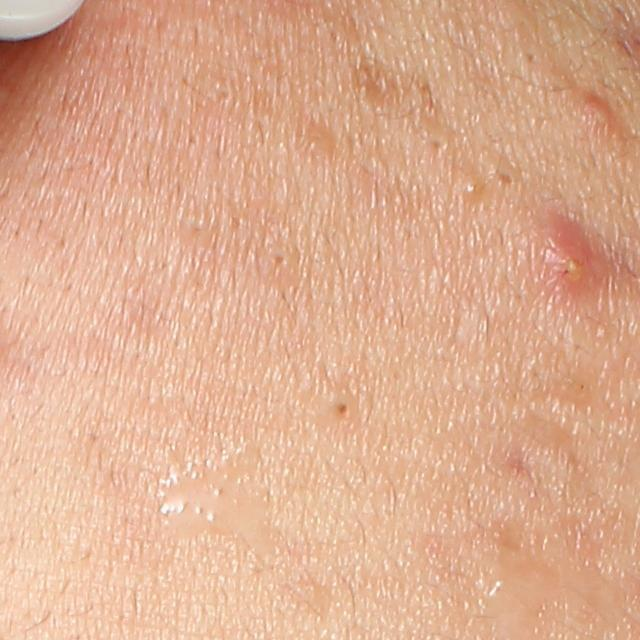comedo: (488, 159, 526, 195), (509, 43, 549, 76), (424, 129, 460, 162), (326, 390, 358, 424), (262, 246, 293, 280), (457, 174, 487, 206)
papule: (570, 89, 615, 136)
